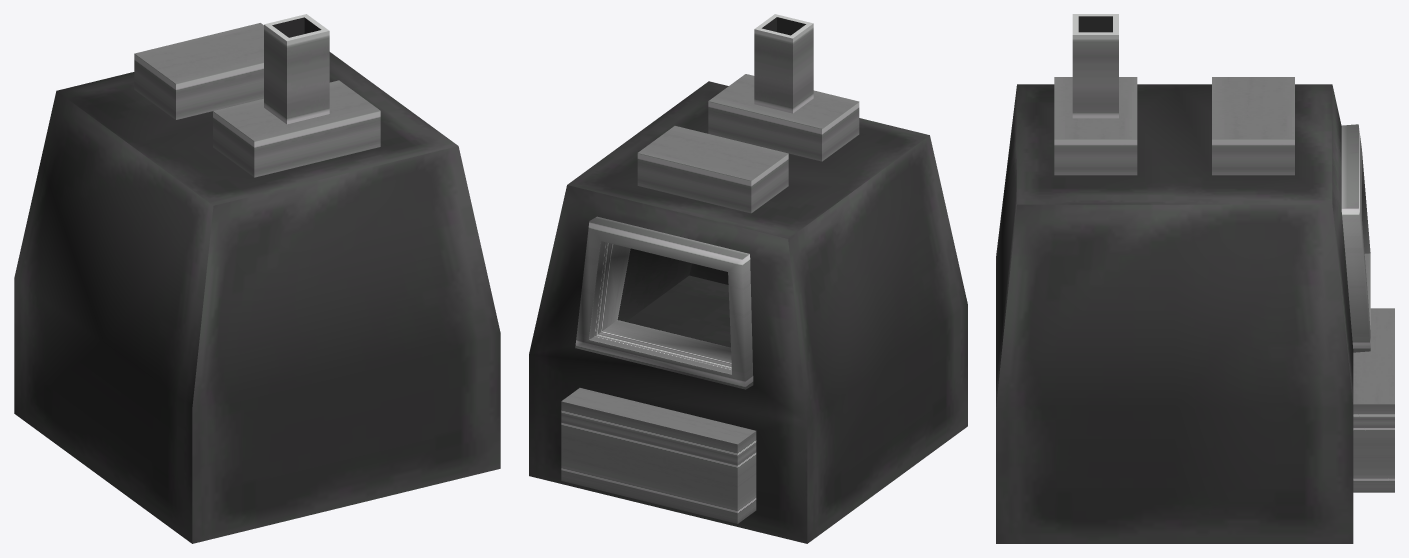
Rendered from FurnaceAnimation.fbx.
The picture shows the model from 3 angles, left to right: view 1: azimuth 30°, elevation 25°; view 2: azimuth 150°, elevation 25°; view 3: azimuth 270°, elevation 25°; orthographic projection. The views are drawn at different scales.
Visible parts, largest first — view 1: Furnace; view 2: Furnace; view 3: Furnace.
Part boxes in pixels (box(x1,y1,x2,y2)): Furnace: box(14, 14, 500, 543); Furnace: box(529, 14, 967, 543); Furnace: box(996, 14, 1394, 543).
Size of the model in its own units: 1.56 by 2.13 by 1.74.
Materials: 1 (1 with a texture image).
